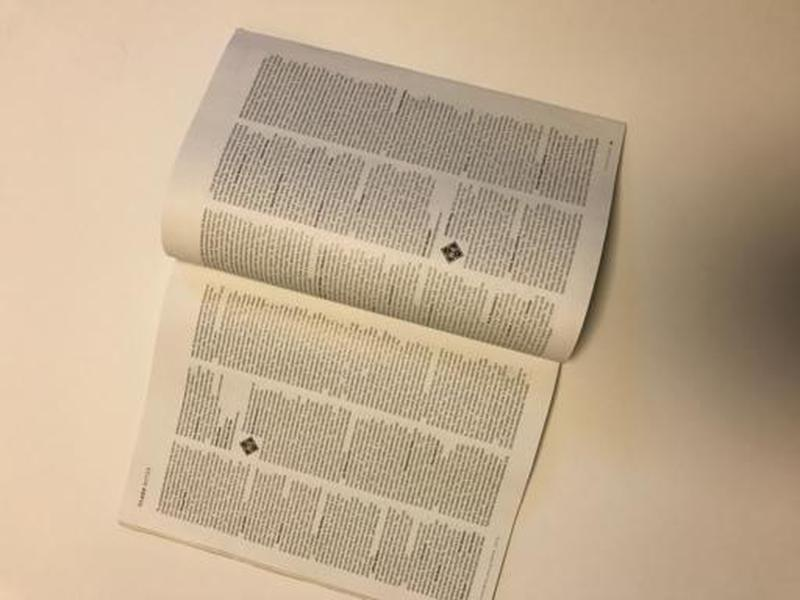paper: (113, 25, 631, 600)
